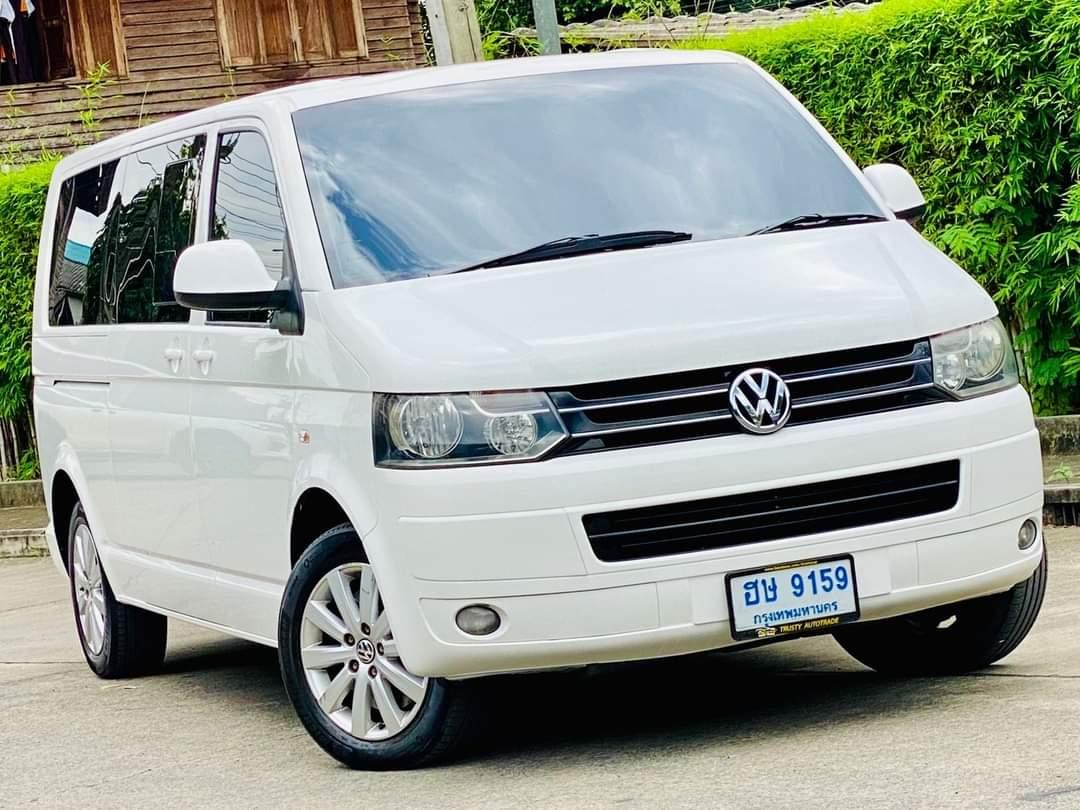license-plate: (720, 549, 863, 647)
